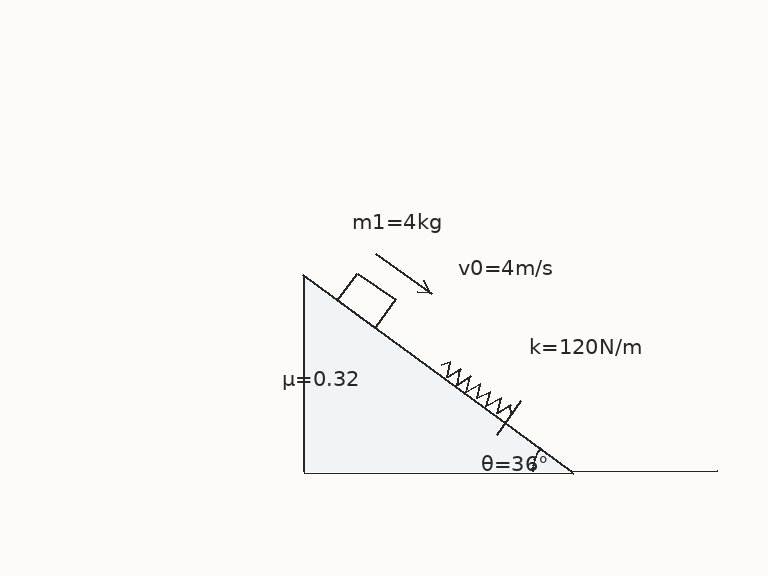block: (336, 270, 397, 329)
ramp: (302, 273, 575, 473)
spring: (439, 360, 513, 417)
